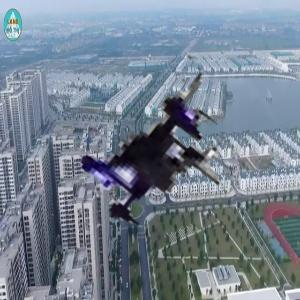drone: (9, 23, 243, 257)
